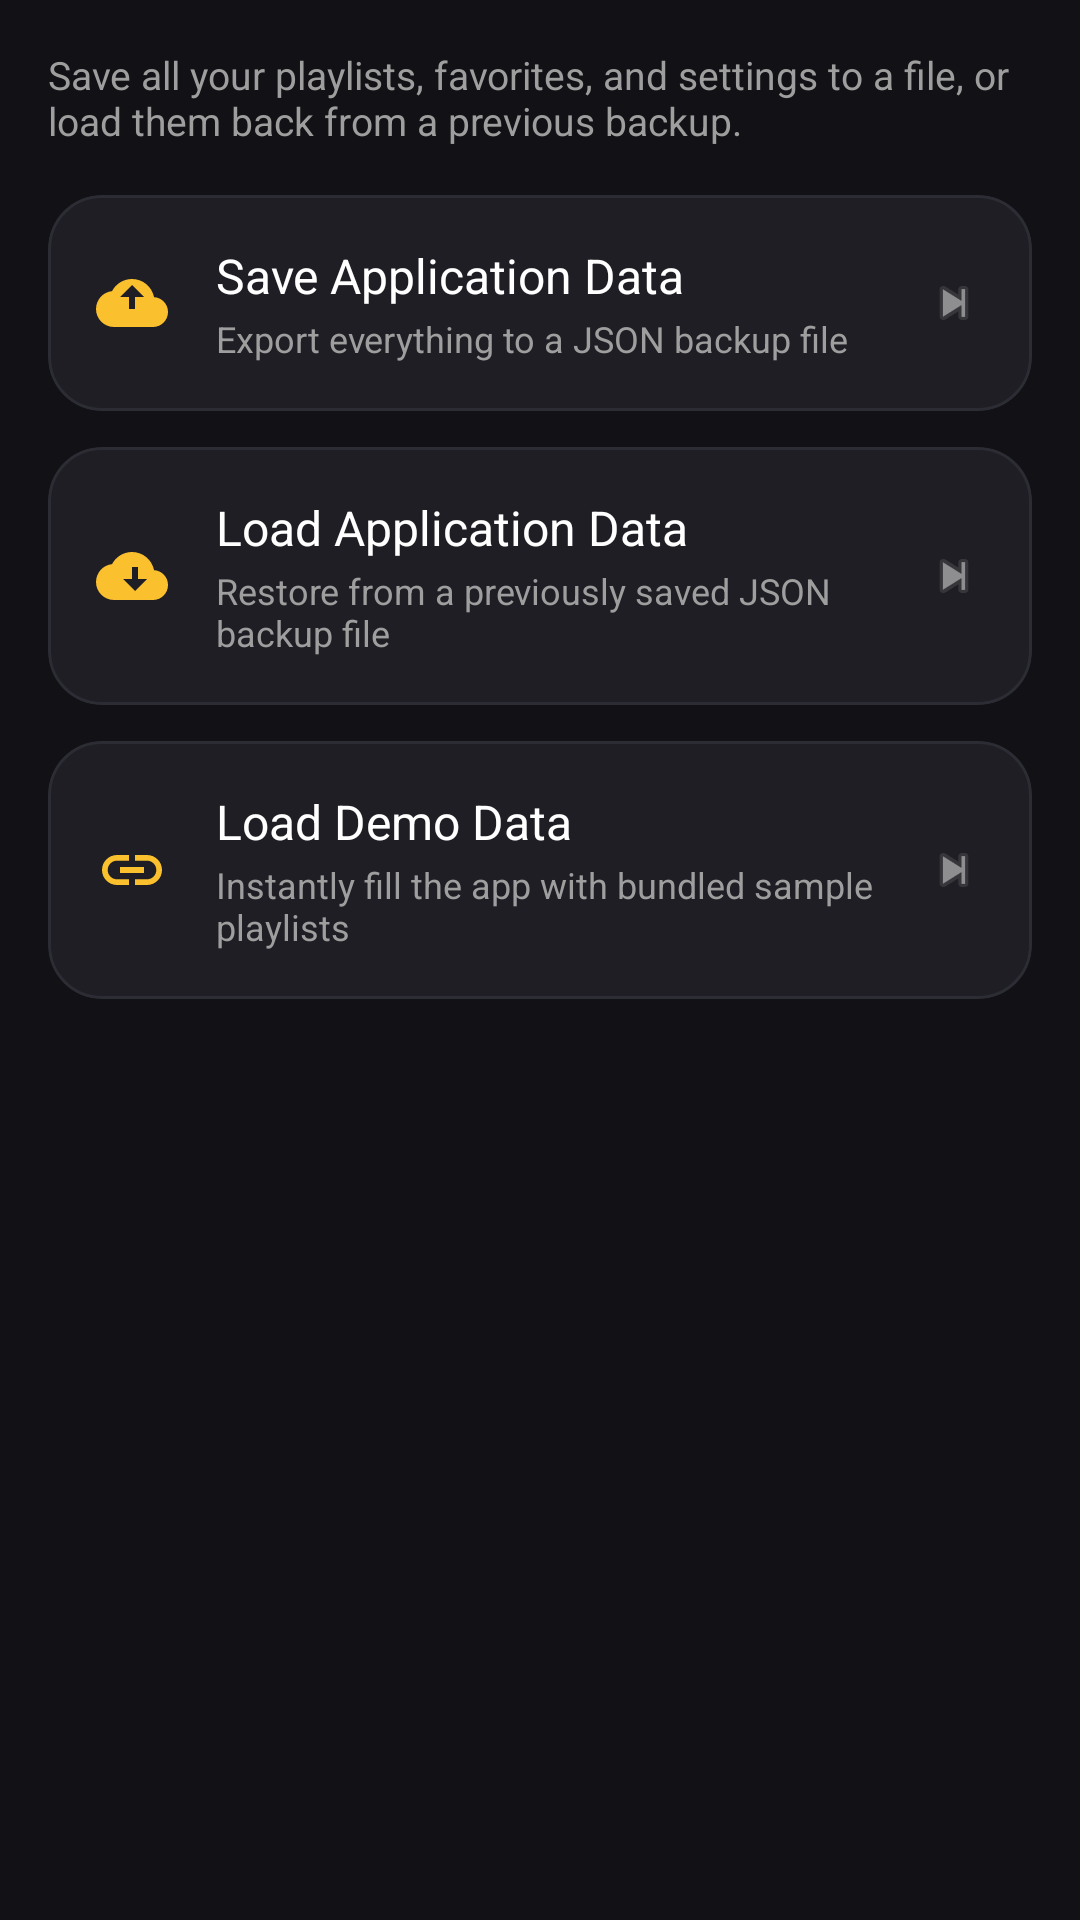

Screen size 1080 × 1920. Icon name, then its box in pixels as (x1, y1, x2, y2):
link: (102, 855, 162, 885)
next: (942, 289, 966, 317), (942, 562, 966, 590), (942, 856, 966, 884)
